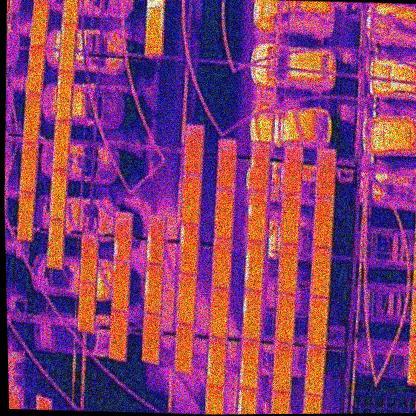Diode: (244, 240, 266, 292), (179, 224, 200, 276), (242, 291, 263, 343), (143, 264, 164, 315), (239, 339, 260, 390), (206, 338, 227, 389), (146, 215, 167, 265), (59, 23, 79, 73), (114, 212, 133, 263), (144, 8, 164, 56), (56, 73, 75, 122)
Hotspot: (248, 141, 271, 192), (246, 192, 268, 242), (112, 262, 131, 314)
Normal: (312, 197, 335, 249), (279, 194, 302, 245), (315, 149, 338, 199), (282, 143, 304, 195), (307, 297, 329, 348), (209, 287, 230, 340), (311, 247, 333, 297), (181, 174, 202, 226), (214, 187, 235, 239), (211, 238, 232, 290), (277, 244, 298, 296), (273, 342, 294, 394), (305, 345, 326, 397), (184, 124, 205, 175), (216, 138, 237, 189), (275, 293, 296, 344), (19, 141, 39, 192), (141, 313, 161, 364), (174, 323, 194, 374), (177, 273, 196, 325), (25, 47, 45, 96), (28, 0, 49, 46), (80, 233, 99, 283), (23, 93, 42, 142), (77, 283, 96, 332), (17, 192, 36, 240), (109, 312, 128, 360), (46, 220, 64, 269), (50, 171, 67, 222), (53, 121, 70, 171)
